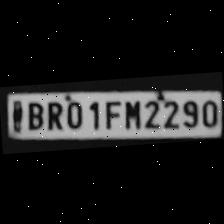0: (196, 94, 220, 127), (62, 97, 84, 128)
1: (83, 98, 103, 131)
2: (139, 96, 161, 129), (158, 96, 180, 128)
9: (177, 96, 199, 128)
B: (22, 97, 44, 130)
F: (100, 97, 120, 129)
M: (118, 96, 142, 130)
R: (42, 96, 64, 130)
